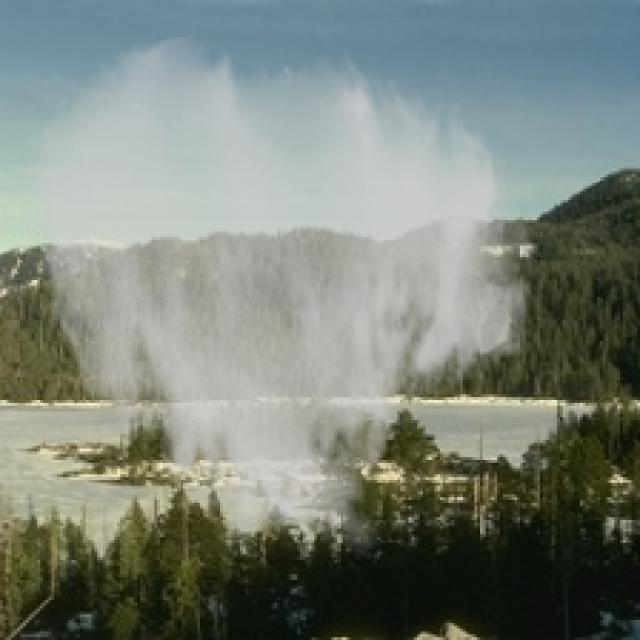smoke: (20, 31, 537, 560)
